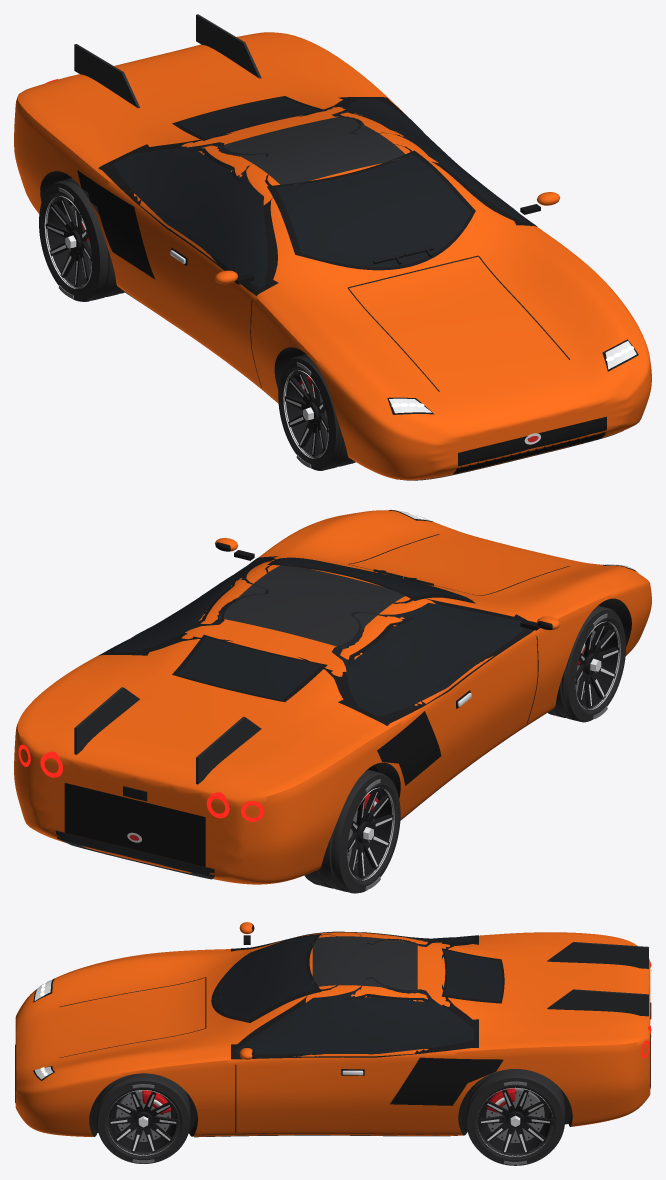
The model's file is jesko.glb.
3 renders of one model, top to bottom at view 1: azimuth 30°, elevation 25°; view 2: azimuth 150°, elevation 25°; view 3: azimuth 270°, elevation 25°, orthographic. The views are drawn at different scales.
Parts seen in each view (by area): view 1: Body, Wheel_RR, Wheel_FR; view 2: Body, Wheel_RR, Wheel_FR; view 3: Body, Wheel_RL, Wheel_FL.
Part boxes in pixels (x1,y1,x2,y2): Body: (14, 14, 651, 480); Wheel_RR: (39, 178, 124, 301); Wheel_FR: (278, 354, 355, 470); Body: (14, 509, 651, 884); Wheel_RR: (304, 769, 400, 893); Wheel_FR: (548, 606, 625, 722); Body: (15, 922, 651, 1137); Wheel_RL: (466, 1069, 564, 1165); Wheel_FL: (96, 1073, 190, 1163).
Size of the model in its own units: 2.3 by 1.19 by 4.63.
